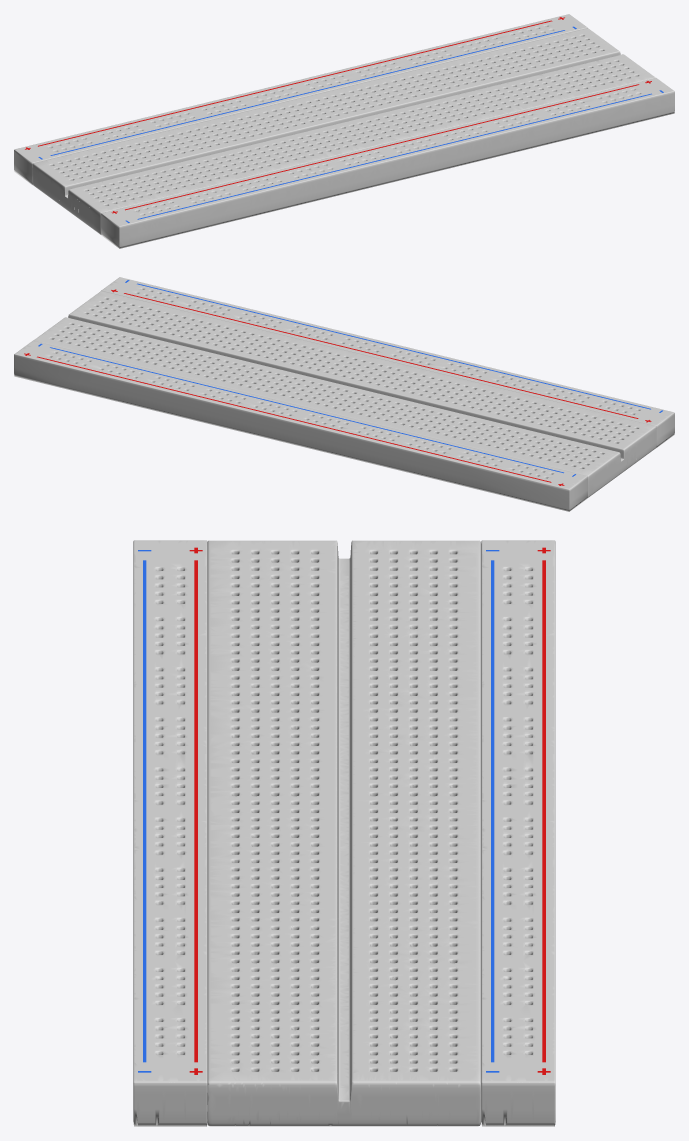
The model's file is breadboard.glb.
3 views of the same model, one above another, from view 1: azimuth 30°, elevation 25°; view 2: azimuth 150°, elevation 25°; view 3: azimuth 270°, elevation 25° (orthographic). The views are drawn at different scales.
Parts seen in each view (by area): view 1: Cubo.003, Cubo.002, Cubo.001; view 2: Cubo.003, Cubo.001, Cubo.002; view 3: Cubo.003, Cubo.002, Cubo.001.
Boxes of the visible parts, x1,y1,x2,y2 form: Cubo.003: [32, 28, 655, 234]; Cubo.002: [101, 78, 674, 248]; Cubo.001: [14, 14, 587, 184]; Cubo.003: [33, 291, 656, 497]; Cubo.001: [14, 341, 587, 511]; Cubo.002: [101, 277, 674, 447]; Cubo.003: [207, 540, 481, 1126]; Cubo.002: [133, 540, 207, 1126]; Cubo.001: [481, 540, 555, 1126].
Size of the model in its own units: 9.99 by 0.3876 by 3.29.
